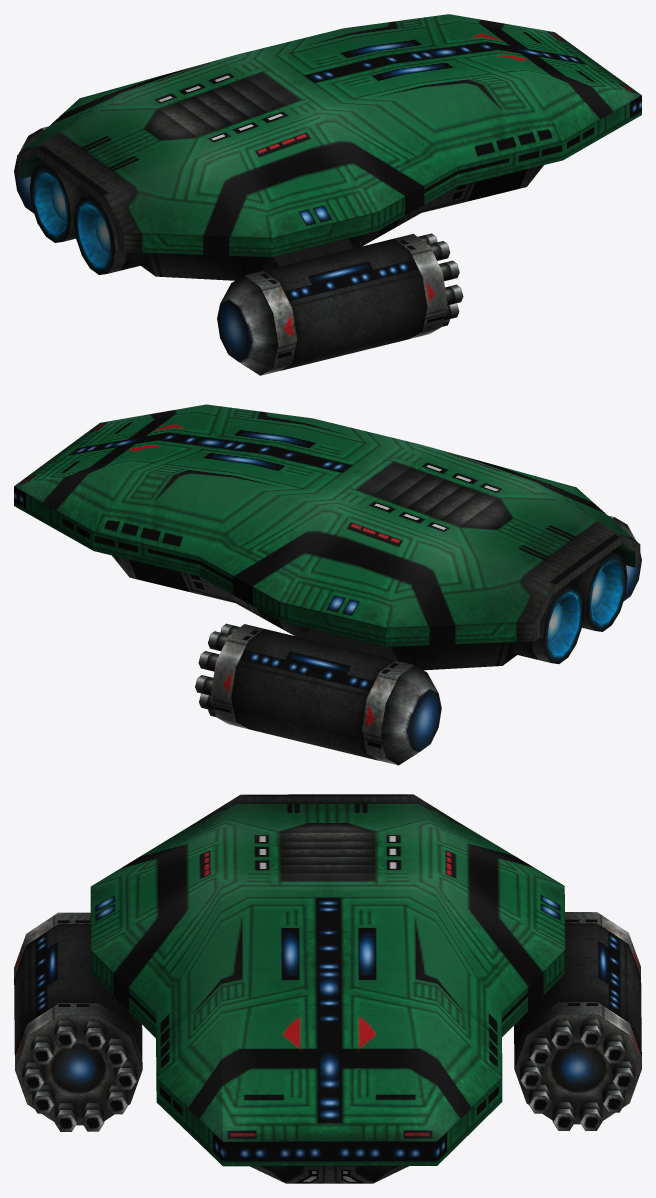
The model's file is bomber_b1.FBX.
3 renders of one model, top to bottom at view 1: azimuth 30°, elevation 25°; view 2: azimuth 150°, elevation 25°; view 3: azimuth 270°, elevation 25°, orthographic. The views are drawn at different scales.
Visible parts, largest first — view 1: Box01; view 2: Box01; view 3: Box01.
Boxes of the visible parts, x1=… form: Box01: x1=14, y1=14, x2=641, y2=375; Box01: x1=14, y1=404, x2=641, y2=765; Box01: x1=14, y1=794, x2=641, y2=1183.
Size of the model in its own units: 4322 by 1388 by 3580.
1 material, 1 textured.
